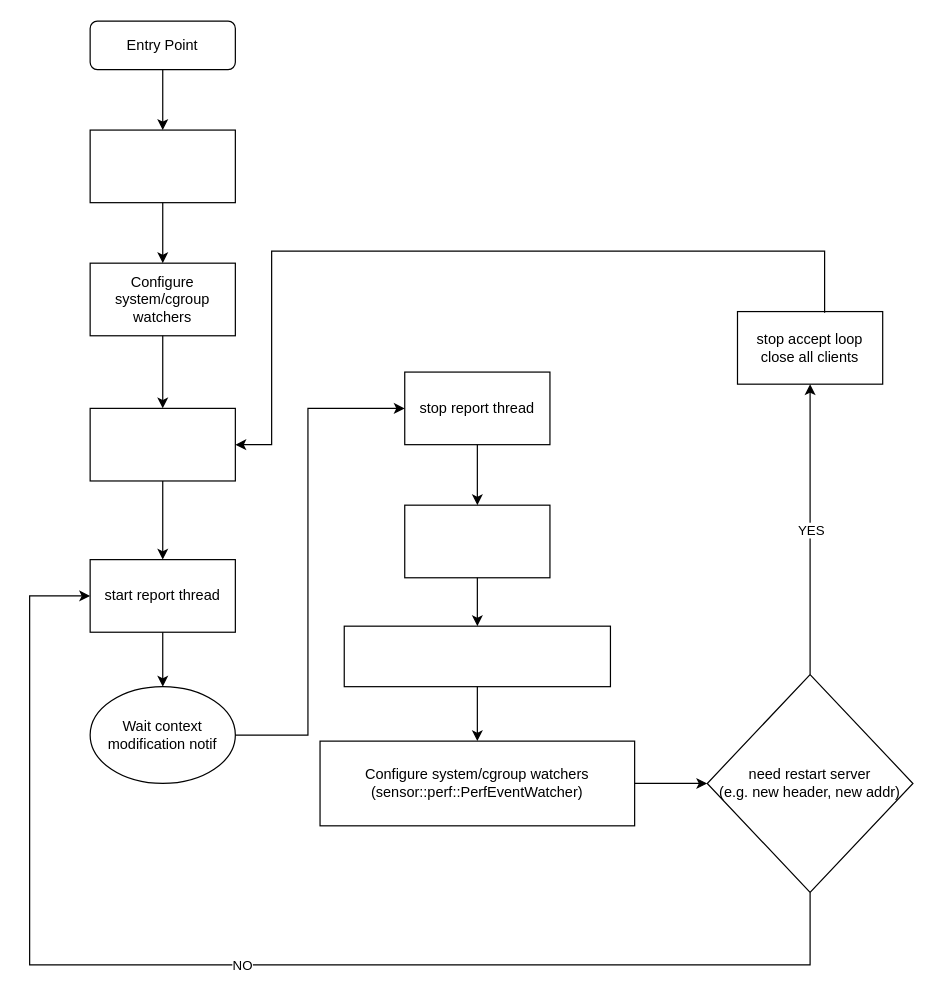
The diagram is 934 pixels wide and 996 high, and some of its shapes have lost their labels. The centre of each missing label's shape, as x and y in pixels:
Dispose watchers: (x=477, y=541)
List watching cgroups: (x=162, y=166)
List watching cgroups (sensor::cgroup::CgroupLister): (x=476, y=656)
start formula listnener loop: (x=162, y=444)
